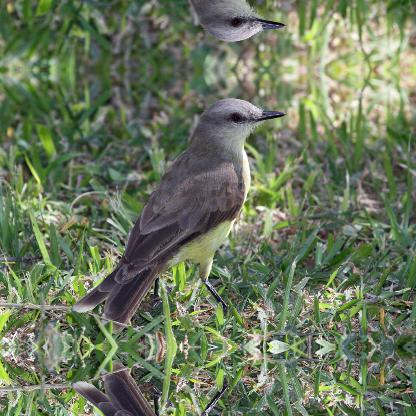Bird: (66, 97, 284, 325), (65, 367, 285, 415)
